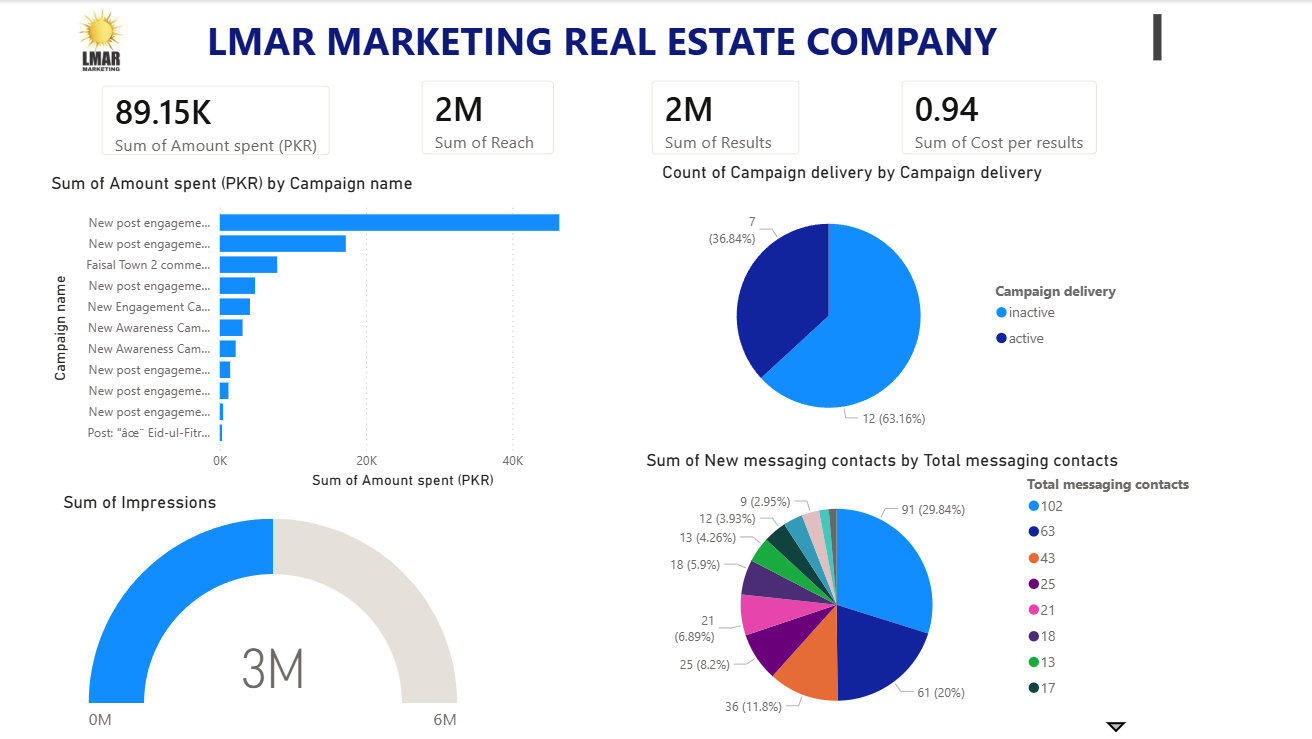

Layout of this report page (visuals, bound fields, positions):
{"tool":"powerbi","page":{"name":"Page 1","canvas":[1280,720],"ordinal":0},"visuals":[{"type":"cardVisual","fields":{"Data":["Sum(Sheet1.Amount spent (PKR))"]},"box":[82.7,66.1,256.8,102.1],"z":0},{"type":"cardVisual","fields":{"Data":["Sum(Sheet1.Reach)"]},"box":[393.9,61.3,163.4,107],"z":1000},{"type":"cardVisual","fields":{"Data":["Sum(Sheet1.Results)"]},"box":[617.6,61.3,179,107],"z":2000},{"type":"cardVisual","fields":{"Data":["Sum(Sheet1.Cost per results)"]},"box":[860.8,61.3,224.7,107],"z":3000},{"type":"barChart","fields":{"Category":["Sheet1.Campaign name"],"Y":["Sum(Sheet1.Amount spent (PKR))"]},"box":[45.7,168.3,539.8,311.2],"z":4000},{"type":"pieChart","fields":{"Category":["Sheet1.Campaign delivery"],"Y":["CountNonNull(Sheet1.Campaign delivery)"]},"box":[640,157.6,465.9,280.1],"z":5000},{"type":"pieChart","fields":{"Category":["Sheet1.Total messaging contacts"],"Y":["Sum(Sheet1.New messaging contacts)"]},"box":[585.5,437.7,550.5,282.1],"z":6000},{"type":"gauge","fields":{"Y":["Sum(Sheet1.Impressions)"]},"box":[57.4,478.5,418.2,241.2],"z":7000},{"type":"textbox","box":[45.7,8.8,1090.3,57.4],"z":8000},{"type":"image","box":[65.2,0,68.1,74.9],"z":8001}]}

Visuals, with their boxes in screenshot pixels (x1, y1, x2, y2), scaled from the page's 1280x720 canvas onto the 1312x739 screenshot:
cardVisual - Sum(Sheet1.Amount spent (PKR)): rect(85, 68, 348, 173)
cardVisual - Sum(Sheet1.Reach): rect(404, 63, 571, 173)
cardVisual - Sum(Sheet1.Results): rect(633, 63, 817, 173)
cardVisual - Sum(Sheet1.Cost per results): rect(882, 63, 1113, 173)
barChart - Sheet1.Campaign name x Sum(Sheet1.Amount spent (PKR)): rect(47, 173, 600, 492)
pieChart - Sheet1.Campaign delivery x CountNonNull(Sheet1.Campaign delivery): rect(656, 162, 1134, 449)
pieChart - Sheet1.Total messaging contacts x Sum(Sheet1.New messaging contacts): rect(600, 449, 1164, 738)
gauge - Sum(Sheet1.Impressions): rect(59, 491, 487, 738)
textbox: rect(47, 9, 1164, 68)
image: rect(67, 0, 137, 77)
